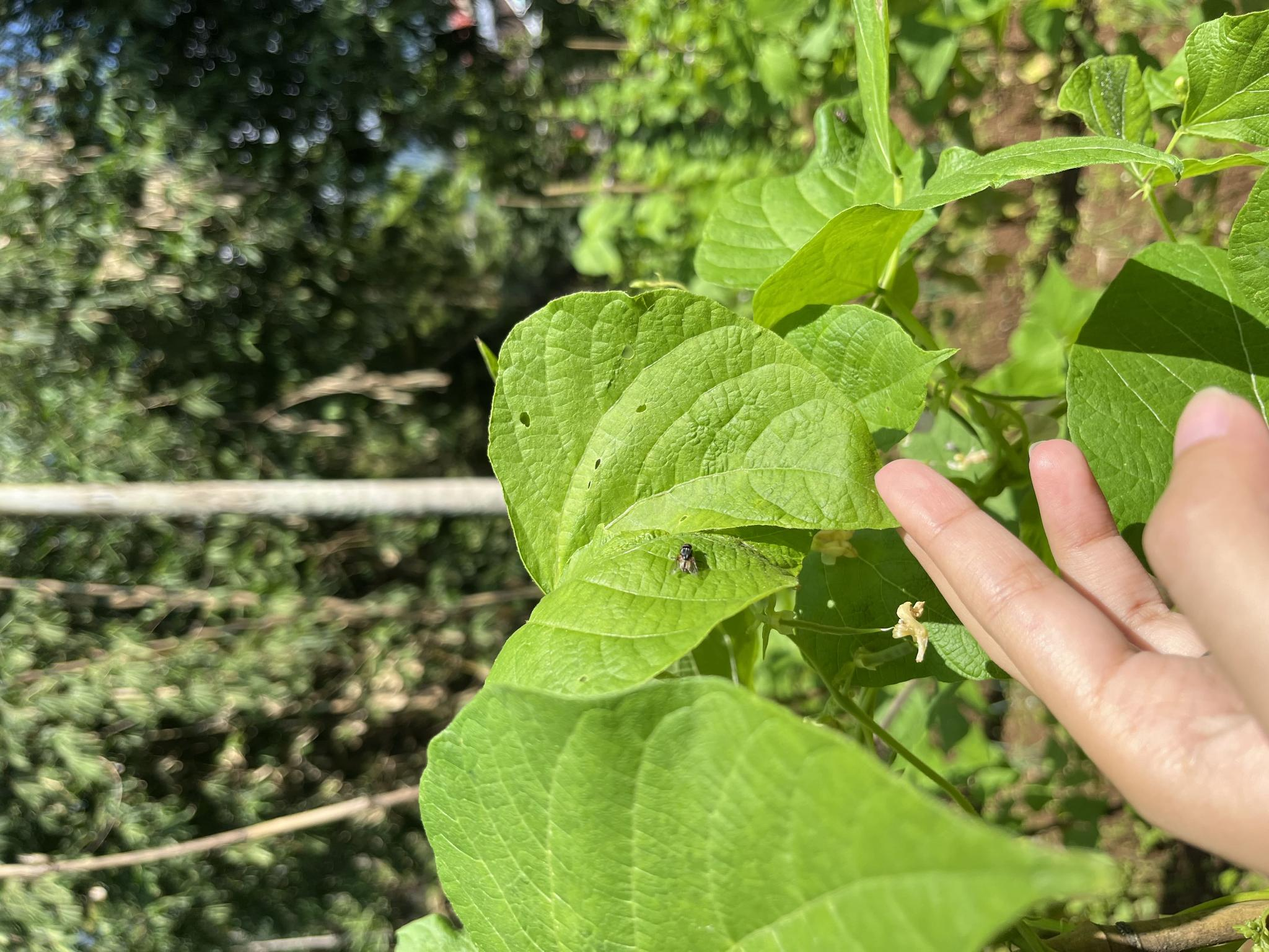mozaik: (497, 383, 548, 451)
